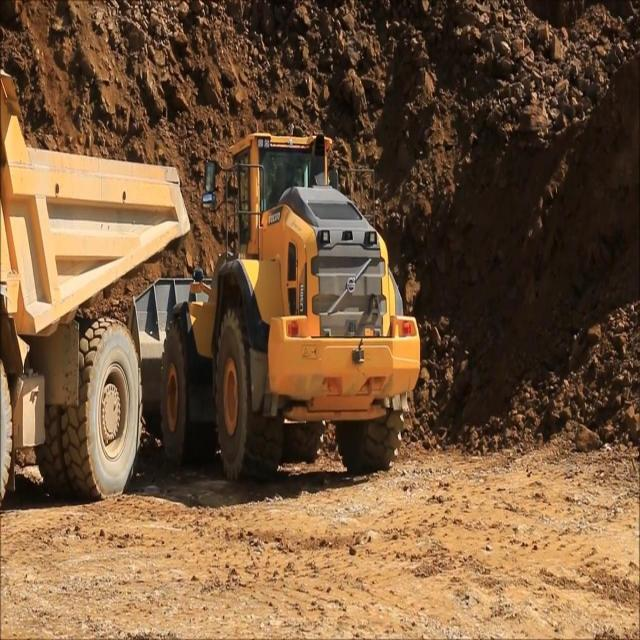Dump Truck: (0, 69, 190, 510)
Loader: (146, 127, 424, 482)
